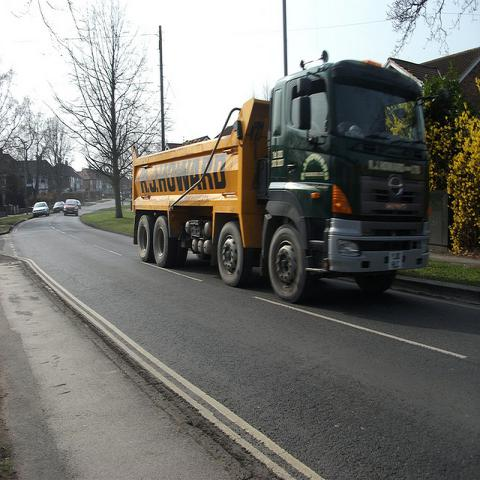car: (62, 199, 79, 216), (32, 202, 50, 217), (53, 201, 65, 212), (76, 200, 81, 209)
truck: (131, 63, 434, 302)
